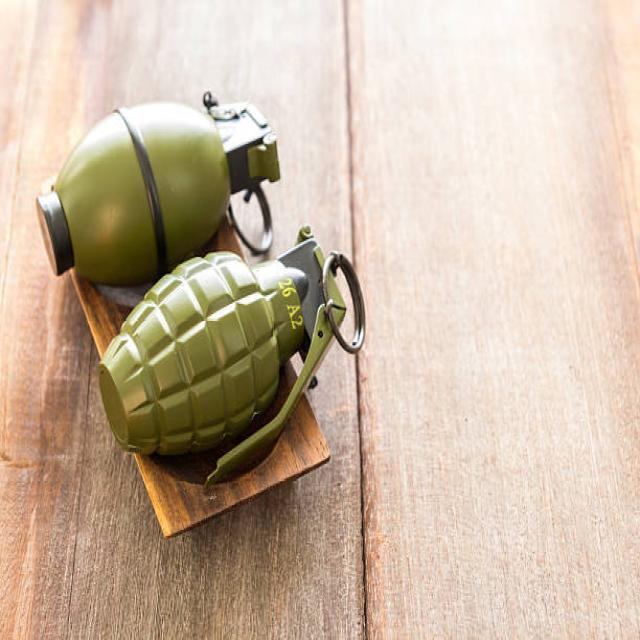grenade: (99, 222, 372, 488), (36, 87, 292, 289)
